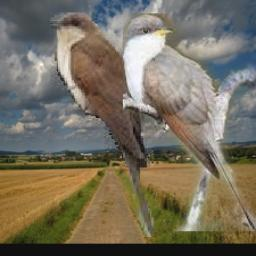Cuckoo: (123, 14, 256, 232), (49, 13, 155, 239)
